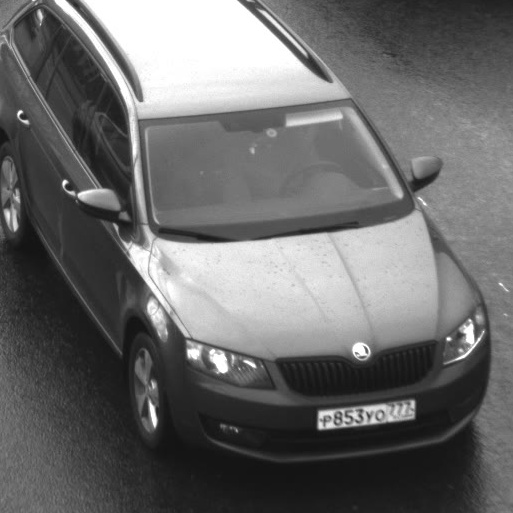plate: (303, 388, 423, 437)
